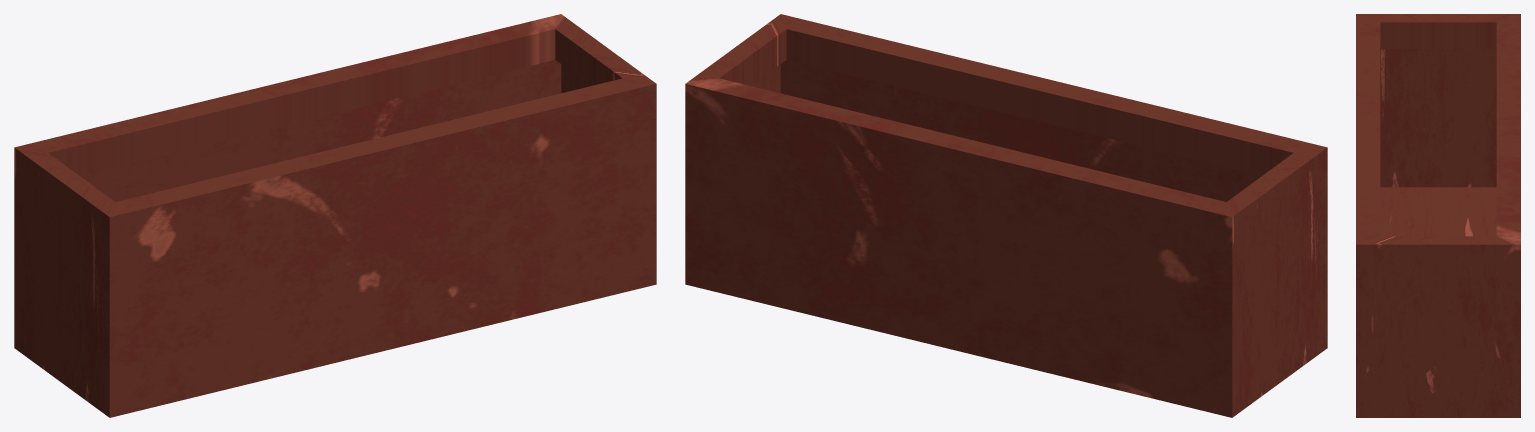
The model's file is buildig.002_clay_(red)_0.001_lev3.glb.
3 renders of one model, left to right at view 1: azimuth 30°, elevation 25°; view 2: azimuth 150°, elevation 25°; view 3: azimuth 270°, elevation 25°, orthographic. The views are drawn at different scales.
Visible parts, largest first — view 1: buildig.002_clay_(red)_0.001_lev3; view 2: buildig.002_clay_(red)_0.001_lev3; view 3: buildig.002_clay_(red)_0.001_lev3.
Part boxes in pixels (x1=…): buildig.002_clay_(red)_0.001_lev3: x1=14, y1=14, x2=656, y2=417; buildig.002_clay_(red)_0.001_lev3: x1=685, y1=14, x2=1327, y2=417; buildig.002_clay_(red)_0.001_lev3: x1=1356, y1=14, x2=1520, y2=417.
Bounding box in the file's own units: 0.636 × 0.2231 × 0.1922.
1 material, 1 textured.
